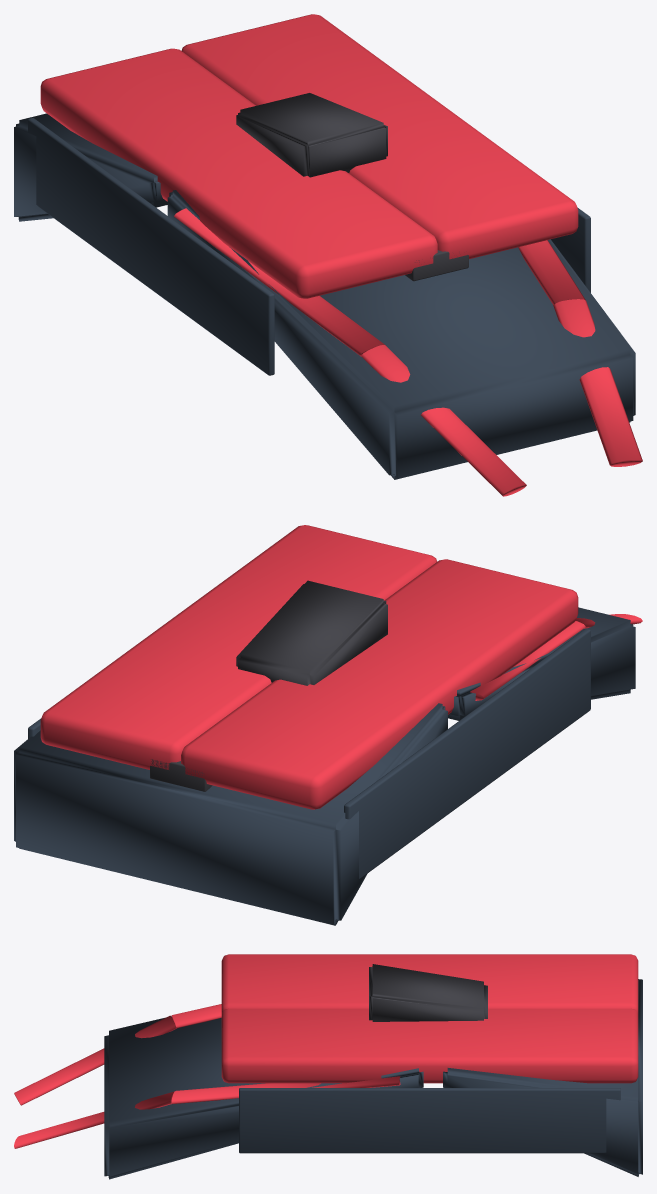
The model's file is hypercar_roof_canopy.glb.
3 views of the same model, one above another, from view 1: azimuth 30°, elevation 25°; view 2: azimuth 150°, elevation 25°; view 3: azimuth 270°, elevation 25° (orthographic). The views are drawn at different scales.
Visible parts, largest first — view 1: Hypercar_Roof_Canopy; view 2: Hypercar_Roof_Canopy; view 3: Hypercar_Roof_Canopy.
Part boxes in pixels (bbox=[...]): Hypercar_Roof_Canopy: bbox=[14, 14, 642, 496]; Hypercar_Roof_Canopy: bbox=[14, 525, 642, 925]; Hypercar_Roof_Canopy: bbox=[14, 954, 642, 1179].
Bounding box in the file's own units: 0.9276 × 0.5332 × 1.96.
